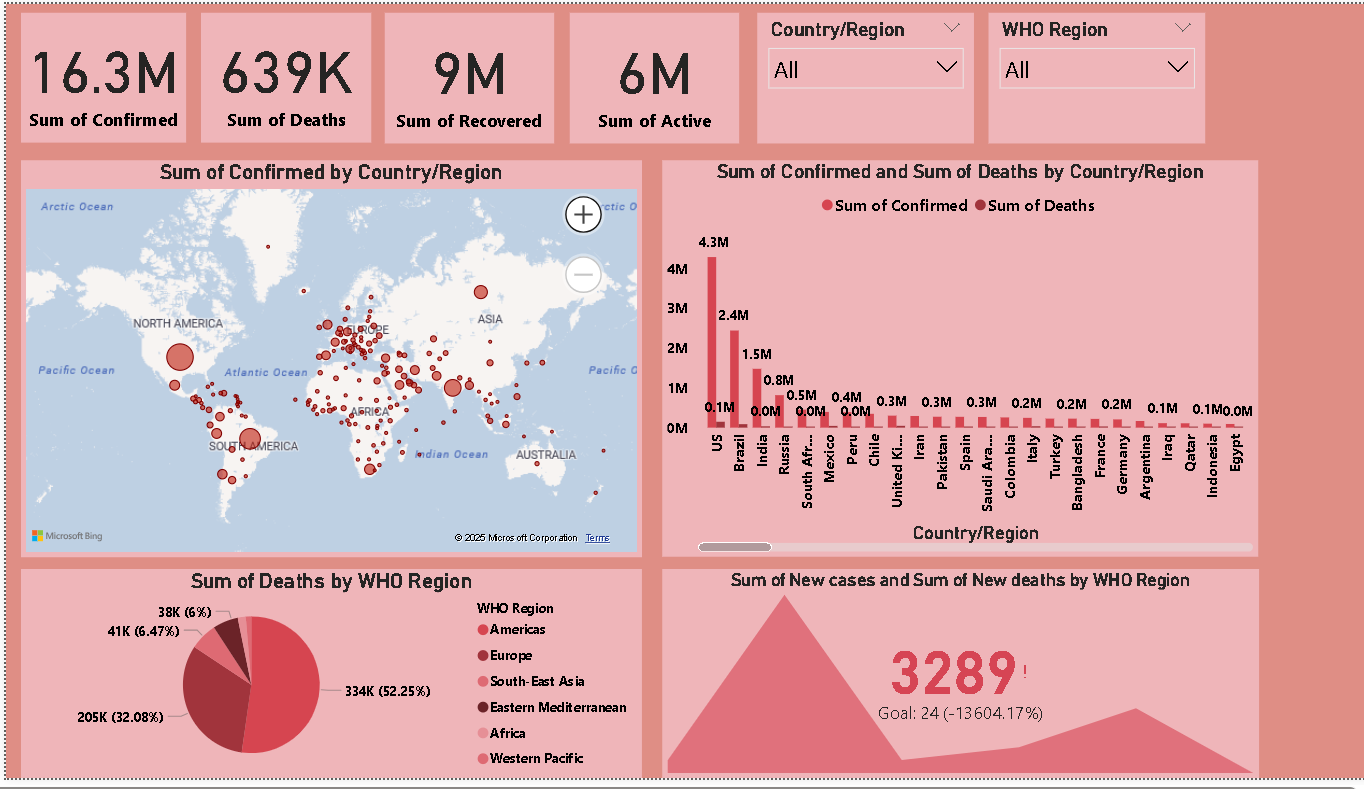

The page's visual inventory and layout, read from the dashboard file:
{"tool":"powerbi","page":{"name":"Page 1","canvas":[1280,720],"ordinal":0},"visuals":[{"type":"map","fields":{"Category":["Covid.Country/Region"],"Size":["Sum(Covid.Confirmed)"]},"box":[14,145.3,577.9,368.6],"z":0},{"type":"clusteredColumnChart","fields":{"Category":["Covid.Country/Region"],"Y":["Sum(Covid.Confirmed)","Sum(Covid.Deaths)"]},"box":[610.5,145.3,554.7,368.6],"z":1000},{"type":"pieChart","fields":{"Category":["Covid.WHO Region"],"Y":["Sum(Covid.Deaths)"]},"box":[14,525.6,577.9,194.2],"z":2000},{"type":"card","fields":{"Values":["Sum(Covid.Confirmed)"]},"box":[14,8.1,153.5,120.9],"z":2001},{"type":"card","fields":{"Values":["Sum(Covid.Deaths)"]},"box":[181.4,8.1,158.1,120.9],"z":2002},{"type":"card","fields":{"Values":["Sum(Covid.Recovered)"]},"box":[352.8,7.9,157.8,121.7],"z":2003},{"type":"card","fields":{"Values":["Sum(Covid.Active)"]},"box":[524.1,7.9,157.8,121.7],"z":2004},{"type":"slicer","fields":{"Values":["Covid.Country/Region"]},"box":[698.8,7.9,201.8,121.7],"z":2005},{"type":"slicer","fields":{"Values":["Covid.WHO Region"]},"box":[914.1,7.9,201.8,121.7],"z":2006},{"type":"kpi","fields":{"TrendLine":["Covid.WHO Region"],"Indicator":["Sum(Covid.New cases)"],"Goal":["Sum(Covid.New deaths)"]},"box":[610,525,555,195],"z":2007}]}

Visuals, with their boxes in screenshot pixels (x1, y1, x2, y2), scaled from the page's 1280x720 canvas onto the 1364x789 screenshot:
map - Covid.Country/Region x Sum(Covid.Confirmed): Rect(15, 159, 631, 563)
clusteredColumnChart - Covid.Country/Region x Sum(Covid.Confirmed): Rect(651, 159, 1242, 563)
pieChart - Covid.WHO Region x Sum(Covid.Deaths): Rect(15, 576, 631, 788)
card - Sum(Covid.Confirmed): Rect(15, 9, 178, 141)
card - Sum(Covid.Deaths): Rect(193, 9, 362, 141)
card - Sum(Covid.Recovered): Rect(376, 9, 544, 142)
card - Sum(Covid.Active): Rect(558, 9, 727, 142)
slicer - Covid.Country/Region: Rect(745, 9, 960, 142)
slicer - Covid.WHO Region: Rect(974, 9, 1189, 142)
kpi - Covid.WHO Region x Sum(Covid.New cases): Rect(650, 575, 1241, 788)
